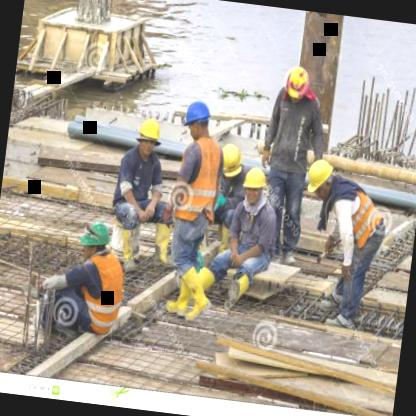helmet: (180, 95, 214, 142), (76, 215, 114, 255), (216, 138, 246, 188), (302, 156, 335, 200), (134, 113, 164, 158), (240, 163, 268, 207), (282, 62, 310, 101)
